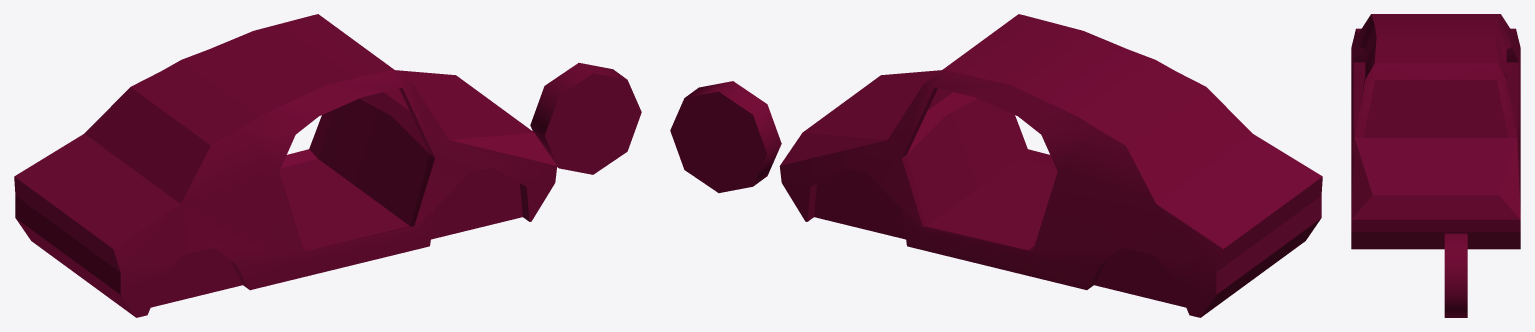
File: MESH_Car_Pack.fbx
3 renders of one model, left to right at view 1: azimuth 30°, elevation 25°; view 2: azimuth 150°, elevation 25°; view 3: azimuth 270°, elevation 25°, orthographic. The views are drawn at different scales.
Visible parts, largest first — view 1: RuinedCar, Tire; view 2: RuinedCar, Tire; view 3: RuinedCar, Tire.
Part boxes in pixels (bbox=[...]): RuinedCar: bbox=[14, 14, 557, 317]; Tire: bbox=[530, 63, 641, 174]; RuinedCar: bbox=[779, 14, 1322, 317]; Tire: bbox=[670, 81, 781, 192]; RuinedCar: bbox=[1351, 14, 1520, 249]; Tire: bbox=[1444, 233, 1467, 317].
Bounding box in the file's own units: 5.63 × 1.81 × 1.76.
